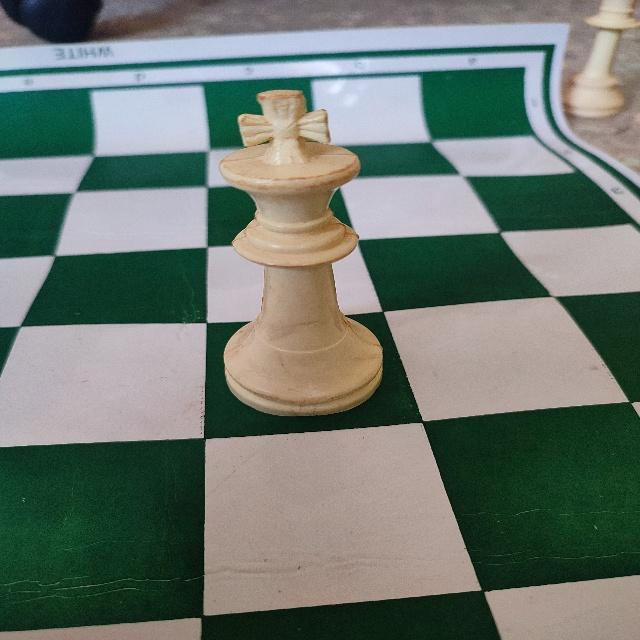King: (216, 92, 387, 416)
